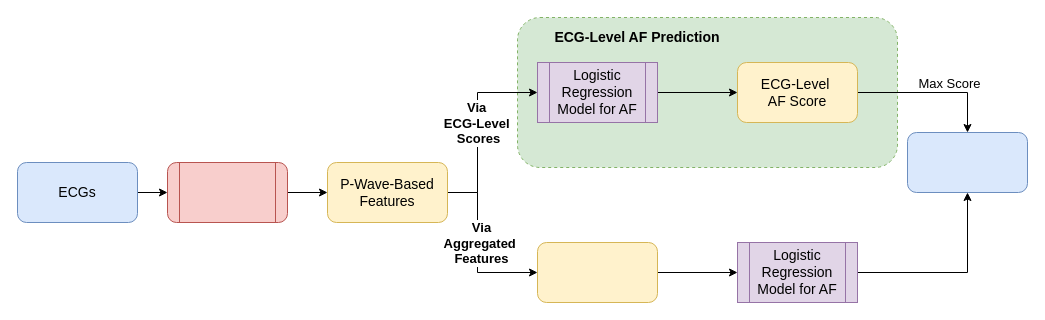
Some shapes in this 1045 by 320 pixel diagram are drawn without their labels. Here are the shapes that lost their labels. From the top down, the centre of each, then its label:
At point 967,162: "Participant-Level Prediction".
At point 227,192: "P-Wave-Based Model".
At point 597,272: "Aggregated P-wave-Based Features".
